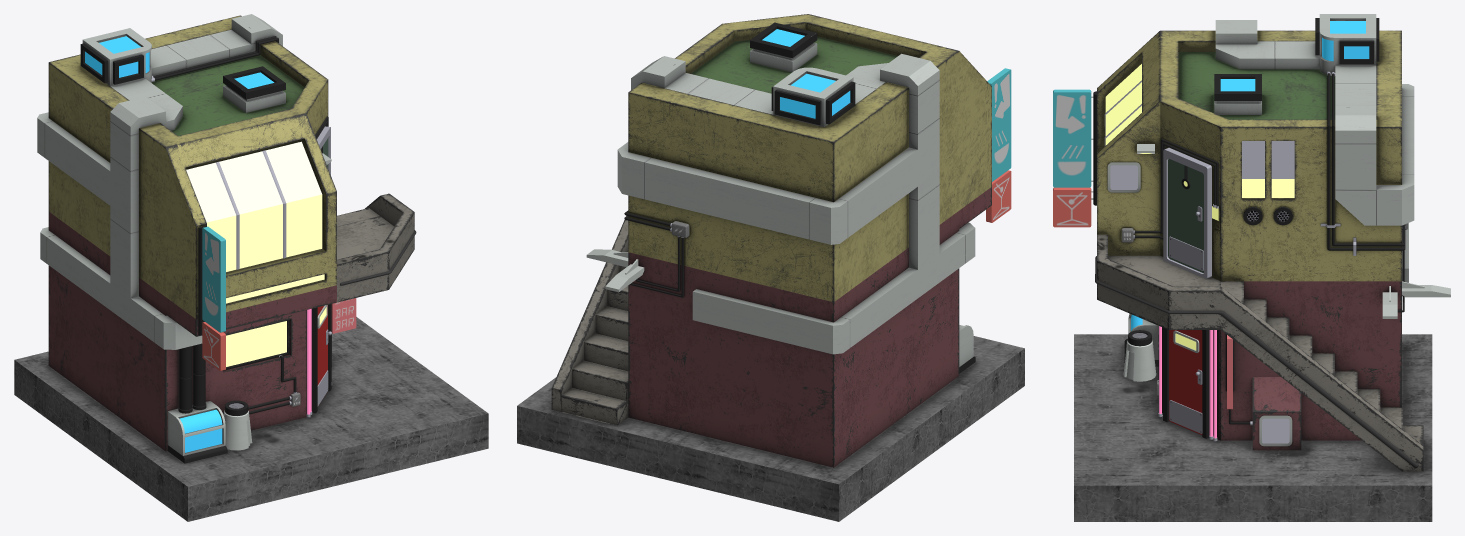
Rendered from home.glb.
The picture shows the model from 3 angles, left to right: view 1: azimuth 30°, elevation 25°; view 2: azimuth 150°, elevation 25°; view 3: azimuth 270°, elevation 25°; orthographic projection. The views are drawn at different scales.
Visible parts, largest first — view 1: pPlane9, polySurface23, polySurface5, polySurface13, polySurface18, polySurface9, pCube10, polySurface98, polySurface70, polySurface81, polySurface16, pCube6 (+13 smaller); view 2: polySurface23, polySurface5, polySurface13, pPlane9, pCube86, polySurface9, pCube10, polySurface70, pCube6, pCube5, pCube11, polySurface76 (+2 smaller); view 3: polySurface23, pPlane9, polySurface5, polySurface9, polySurface13, pCube10, pCube86, polySurface86, pCube7, polySurface91, polySurface85, pCylinder17 (+19 smaller).
Boxes of the visible parts, x1,y1,x2,y2 form: pPlane9: (14,317,488,521); polySurface23: (48,15,336,319); polySurface5: (48,212,336,451); polySurface13: (37,14,282,349); polySurface18: (186,141,322,271); polySurface9: (337,193,414,302); pCube10: (202,226,225,332); polySurface98: (226,321,286,366); polySurface70: (82,28,151,85); polySurface81: (167,401,225,455); polySurface16: (311,304,331,413); pCube6: (223,66,285,99); polySurface23: (628,14,991,302); polySurface5: (628,187,991,467); polySurface13: (617,53,975,354); pPlane9: (517,336,1024,521); pCube86: (561,265,628,424); polySurface9: (551,215,628,425); pCube10: (987,68,1011,181); polySurface70: (773,67,853,126); pCube6: (750,22,817,58); pCube5: (750,43,817,72); pCube11: (986,170,1011,222); polySurface76: (774,90,821,125); polySurface23: (1097,30,1401,281); pPlane9: (1074,334,1432,521); polySurface5: (1162,281,1401,440); polySurface9: (1097,234,1423,471); polySurface13: (1215,20,1414,296); pCube10: (1053,89,1091,187); pCube86: (1221,281,1423,445); polySurface86: (1168,159,1203,272); pCube7: (1252,377,1301,450); polySurface91: (1169,330,1202,434); polySurface85: (1163,147,1211,278); pCylinder17: (1095,256,1418,468).
Size of the model in its own units: 15.75 by 18.28 by 17.48.
Materials: 7 (7 with a texture image).
